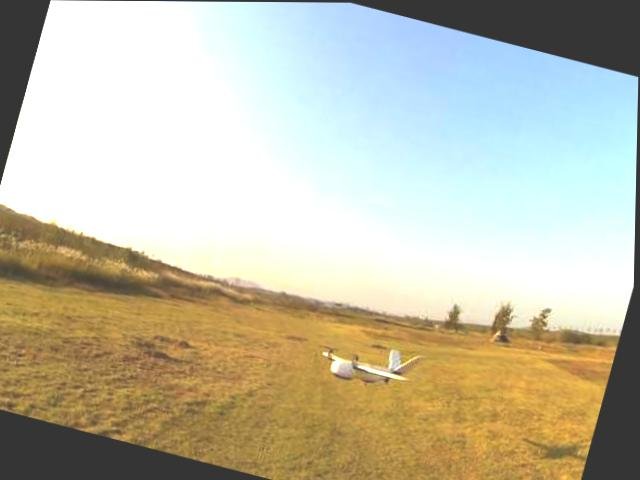uav: (306, 317, 433, 405)
